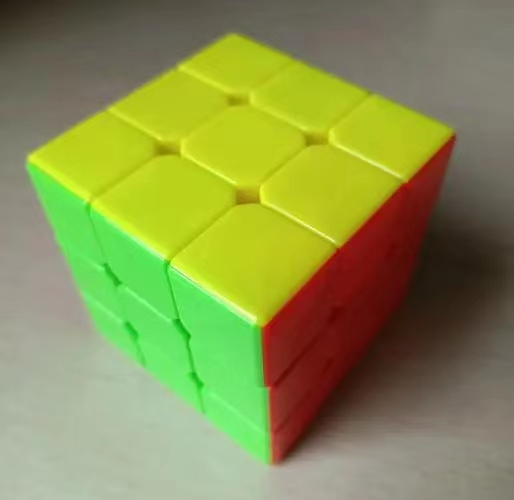cube: (21, 28, 459, 469)
